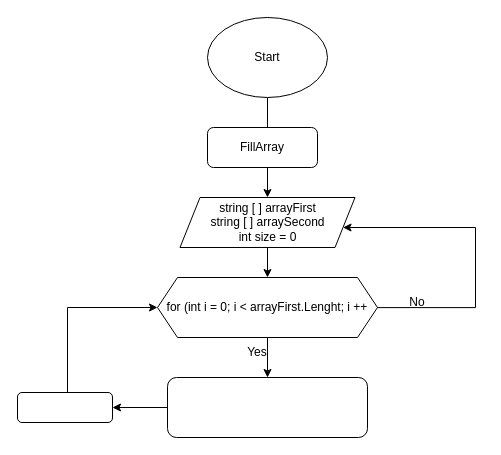
Some shapes in this 501 by 455 pixel diagram are drawn without their labels. Each missing label, with the box of its shape:
arraySecond[size] = arrayFirst[i]: (166, 376, 368, 438)
size ++: (16, 392, 112, 422)
